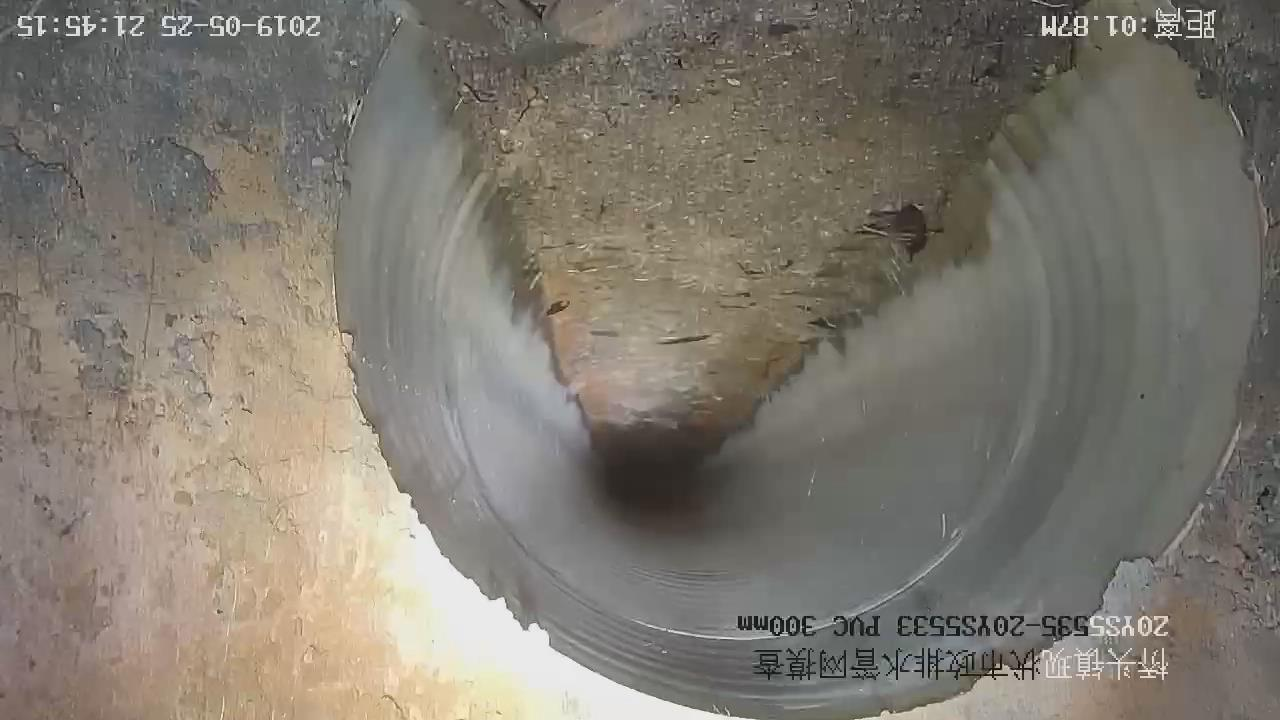CJ: (408, 1, 1086, 461)
CKTJ: (534, 505, 987, 647)
